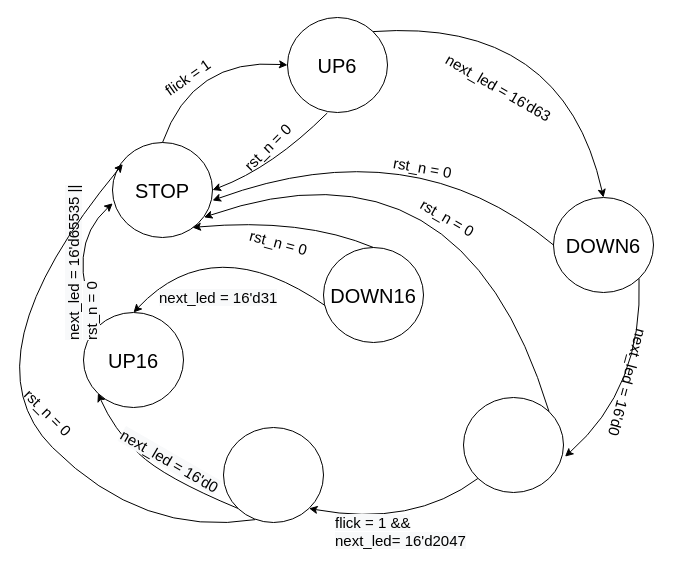
This 673x568 diagram has some shape labels left out. Each missing label, with the box of its shape:
DOWN11: (222, 426, 324, 522)
UP11: (462, 396, 564, 492)
